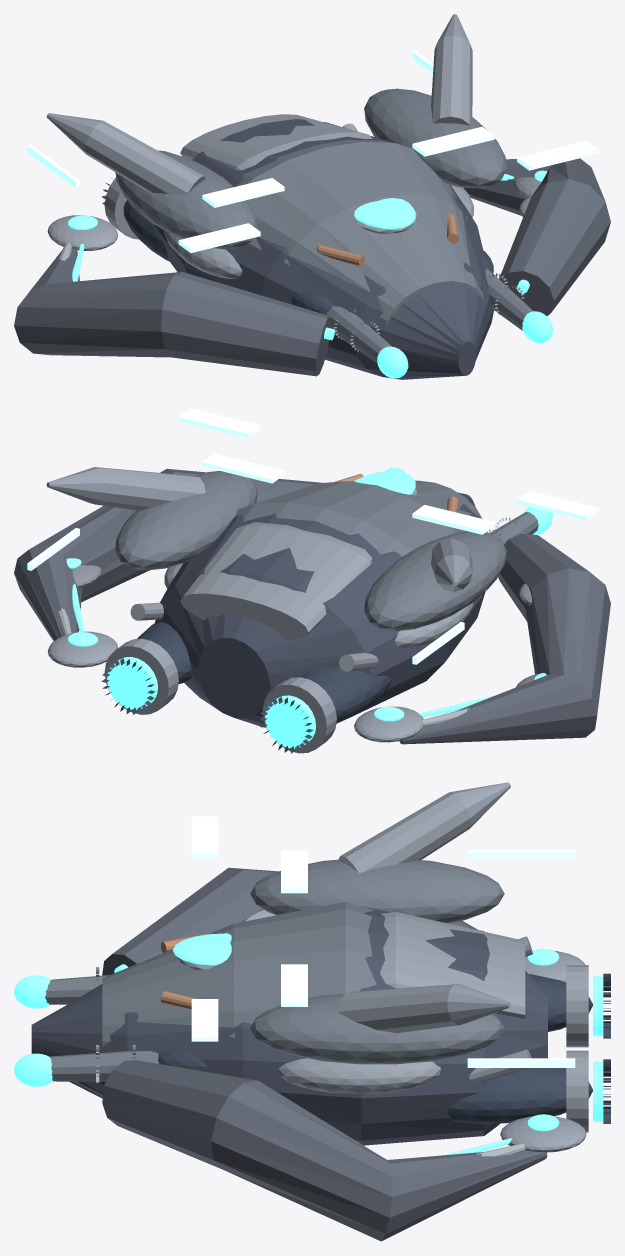
The model's file is npc_sibelon.glb.
3 renders of one model, top to bottom at view 1: azimuth 30°, elevation 25°; view 2: azimuth 150°, elevation 25°; view 3: azimuth 270°, elevation 25°, orthographic. The views are drawn at different scales.
Parts seen in each view (by area): view 1: armored_scythe_-1, upper_armor_scar, keel_pressure_hull, armored_scythe_1, colossar_pylon_guard_1, V59 trim baked, colossar_radar_crest_-1, colossar_pylon_guard_-1, colossar_dorsal_fortress, colossar_radar_crest_1, long_plasma_cannon_-1, scythe_plate_-1_2 (+9 smaller); view 2: keel_pressure_hull, armored_scythe_-1, colossar_dorsal_fortress, upper_armor_scar, armored_scythe_1, colossar_pylon_guard_1, colossar_pylon_guard_-1, V59 trim baked, colossar_radar_crest_1, engine_armor_-1, exhaust_coil_-1, exhaust_coil_1 (+14 smaller); view 3: armored_scythe_1, keel_pressure_hull, upper_armor_scar, colossar_pylon_guard_-1, colossar_pylon_guard_1, colossar_dorsal_fortress, V59 trim baked, armored_scythe_-1, colossar_radar_crest_-1, colossar_radar_crest_1, engine_armor_1, heavy_shield_pad_1 (+14 smaller).
Part boxes in pixels (bbox=[...]): armored_scythe_-1: bbox=[14, 249, 331, 376]; upper_armor_scar: bbox=[236, 139, 484, 326]; keel_pressure_hull: bbox=[155, 119, 493, 379]; armored_scythe_1: bbox=[463, 158, 610, 315]; colossar_pylon_guard_1: bbox=[364, 88, 506, 188]; V59 trim baked: bbox=[27, 51, 598, 252]; colossar_radar_crest_-1: bbox=[46, 113, 205, 194]; colossar_pylon_guard_-1: bbox=[115, 150, 257, 249]; colossar_dorsal_fortress: bbox=[180, 114, 372, 170]; colossar_radar_crest_1: bbox=[431, 14, 472, 125]; long_plasma_cannon_-1: bbox=[326, 306, 391, 363]; scythe_plate_-1_2: bbox=[47, 215, 118, 250]; keel_pressure_hull: bbox=[155, 492, 487, 727]; armored_scythe_-1: bbox=[399, 533, 610, 744]; colossar_dorsal_fortress: bbox=[180, 522, 372, 639]; upper_armor_scar: bbox=[234, 480, 482, 556]; armored_scythe_1: bbox=[14, 469, 322, 641]; colossar_pylon_guard_1: bbox=[115, 471, 257, 570]; colossar_pylon_guard_-1: bbox=[364, 531, 506, 630]; V59 trim baked: bbox=[27, 408, 598, 664]; colossar_radar_crest_1: bbox=[46, 467, 205, 510]; engine_armor_-1: bbox=[298, 666, 391, 722]; exhaust_coil_-1: bbox=[262, 677, 336, 753]; exhaust_coil_1: bbox=[104, 638, 178, 714]; armored_scythe_1: bbox=[102, 1060, 547, 1241]; keel_pressure_hull: bbox=[31, 906, 547, 1145]; upper_armor_scar: bbox=[102, 902, 376, 1046]; colossar_pylon_guard_-1: bbox=[250, 859, 504, 923]; colossar_pylon_guard_1: bbox=[250, 993, 504, 1064]; colossar_dorsal_fortress: bbox=[380, 912, 525, 1019]; V59 trim baked: bbox=[191, 816, 575, 1067]; armored_scythe_-1: bbox=[102, 867, 477, 975]; colossar_radar_crest_-1: bbox=[338, 782, 510, 872]; colossar_radar_crest_1: bbox=[338, 984, 510, 1033]; engine_armor_1: bbox=[448, 1068, 592, 1124]; heavy_shield_pad_1: bbox=[278, 1058, 441, 1093].
Size of the model in its own units: 5.31 by 1.82 by 4.25.
